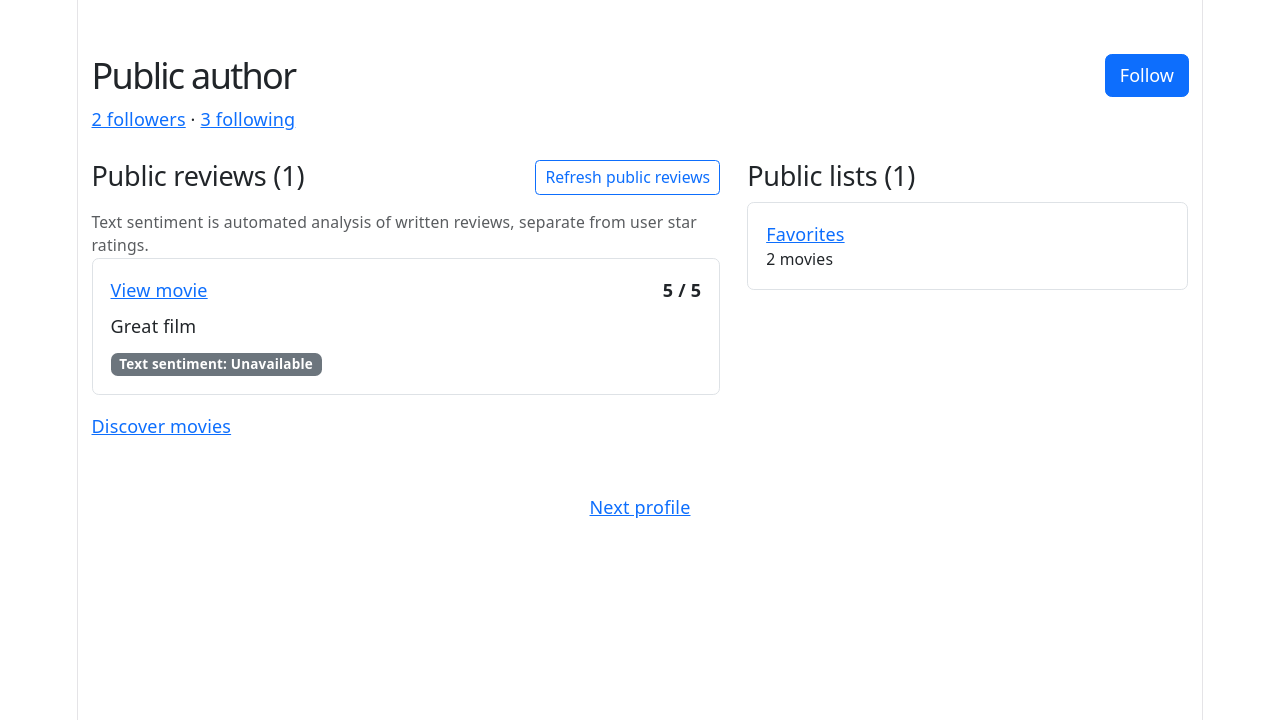
Test: uses the current viewer state when navigating to another profile
This screenshot has width=1280, height=720.
Expected: the button "Follow" is shown, [1105,54,1188,96]
Click the link "Next profile" at (640, 507), box [590,495,690,519]
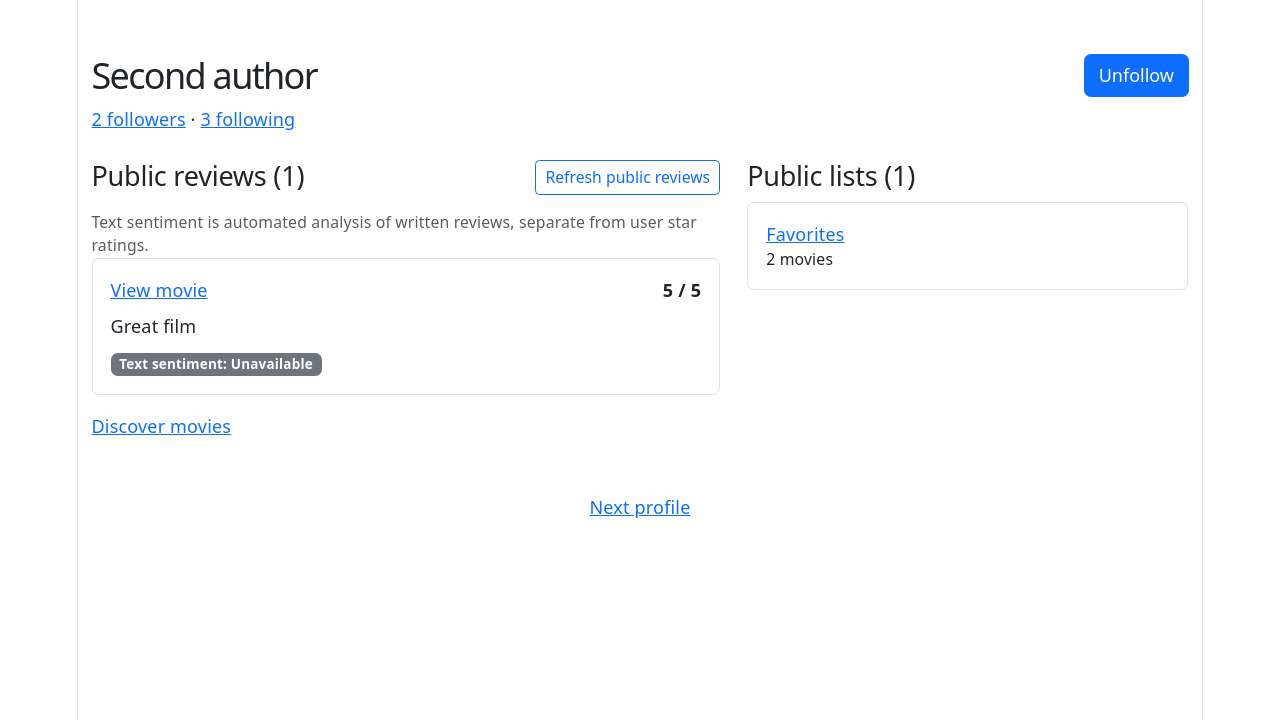
Expected: the button "Unfollow" is enabled, [1084,54,1188,96]
Result: the heading "Second author" is shown at [92,54,317,97]
Result: the heading "Public author" is gone
